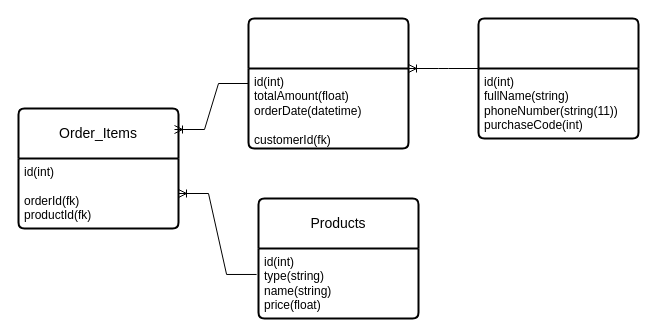
The diagram is 656 pixels wide and 336 high, and some of its shapes have lost their labels. Here are the shapes that lost their labels. From the top down, the box of each, then its label:
(247, 17, 409, 149): Orders
(477, 17, 639, 139): Customers
